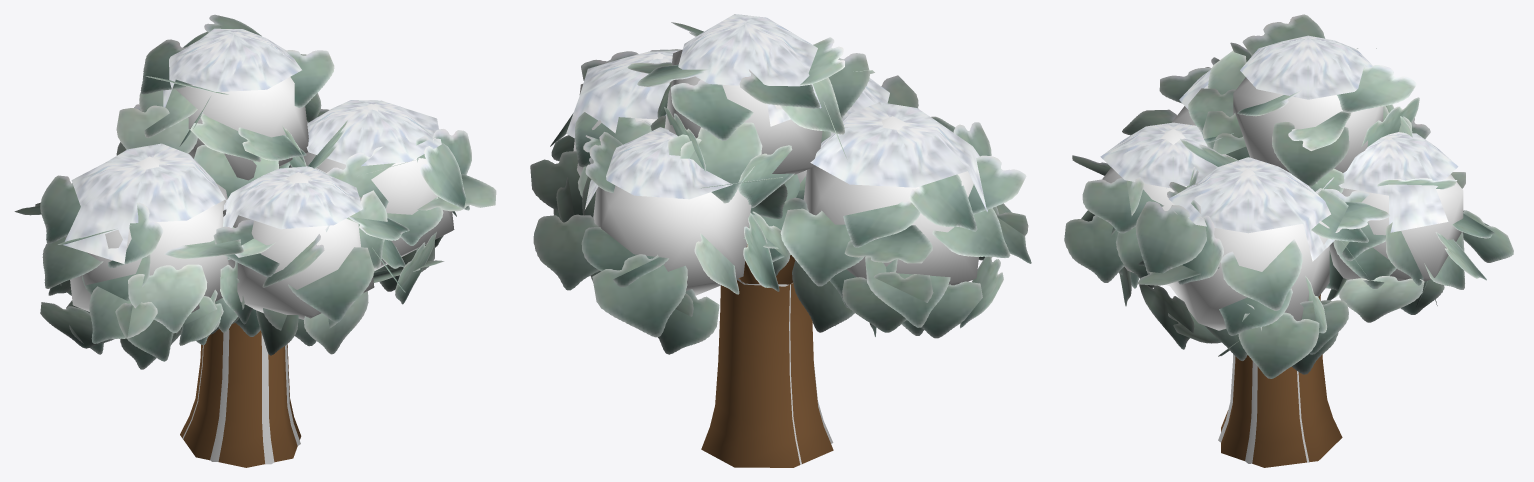
Rendered from tree-wide-winter.lod1.glb.
3 views of the same model, side by side, from view 1: azimuth 30°, elevation 25°; view 2: azimuth 150°, elevation 25°; view 3: azimuth 270°, elevation 25° (orthographic). The views are drawn at different scales.
Parts seen in each view (by area): view 1: Crown, Hull, Trunk, Stem; view 2: Crown, Hull, Trunk, Stem; view 3: Crown, Hull, Trunk, Stem.
Part boxes in pixels (x1,y1,x2,y2): Crown: (14,14,496,369); Hull: (65,77,454,319); Trunk: (180,322,301,467); Stem: (182,329,300,464); Crown: (530,14,1031,354); Hull: (573,49,978,295); Trunk: (701,244,833,467); Stem: (736,278,833,464); Crown: (1064,14,1513,378); Hull: (1102,77,1463,330); Trunk: (1221,294,1342,467); Stem: (1218,354,1309,463).
Bounding box in the file's own units: 3.43 × 3.16 × 3.22.
4 materials, 1 textured.
